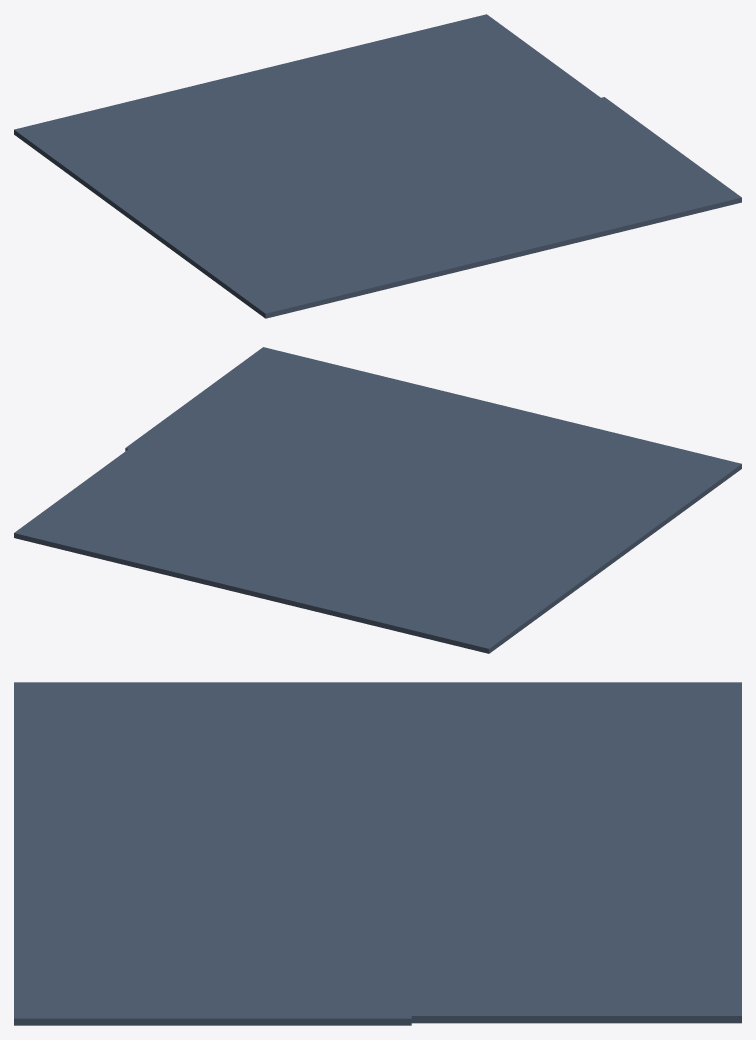
The model's file is floor_004_l_old_core_raspredelitelnyy_holl_starog_floor.obj.
3 renders of one model, top to bottom at view 1: azimuth 30°, elevation 25°; view 2: azimuth 150°, elevation 25°; view 3: azimuth 270°, elevation 25°, orthographic. The views are drawn at different scales.
Parts seen in each view (by area): view 1: Floor_004_l_old_core_raspredelitelnyy_holl_starog_floor; view 2: Floor_004_l_old_core_raspredelitelnyy_holl_starog_floor; view 3: Floor_004_l_old_core_raspredelitelnyy_holl_starog_floor.
Boxes of the visible parts, <box> form: Floor_004_l_old_core_raspredelitelnyy_holl_starog_floor: <box>14,14,741,318</box>; Floor_004_l_old_core_raspredelitelnyy_holl_starog_floor: <box>14,347,741,653</box>; Floor_004_l_old_core_raspredelitelnyy_holl_starog_floor: <box>14,682,741,1025</box>.
Bounding box in the file's own units: 20.01 × 0.2 × 18.31.
